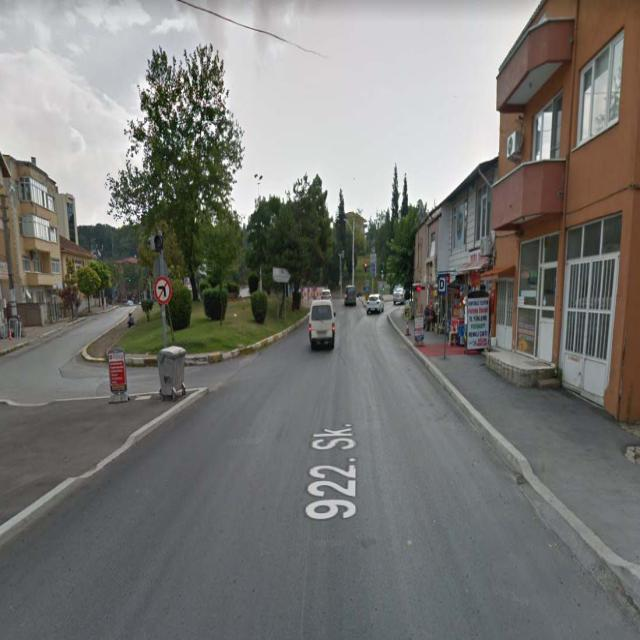durak: (438, 274, 446, 294)
soladonulmez: (154, 276, 172, 304)
